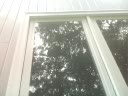window: (0, 9, 30, 96), (44, 81, 71, 96), (42, 43, 65, 57), (97, 89, 114, 96), (91, 59, 100, 68)
